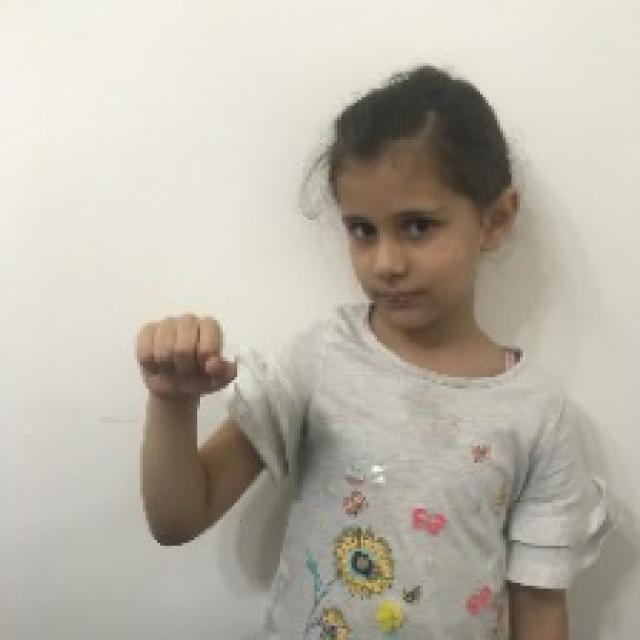yes: (132, 307, 243, 400)
